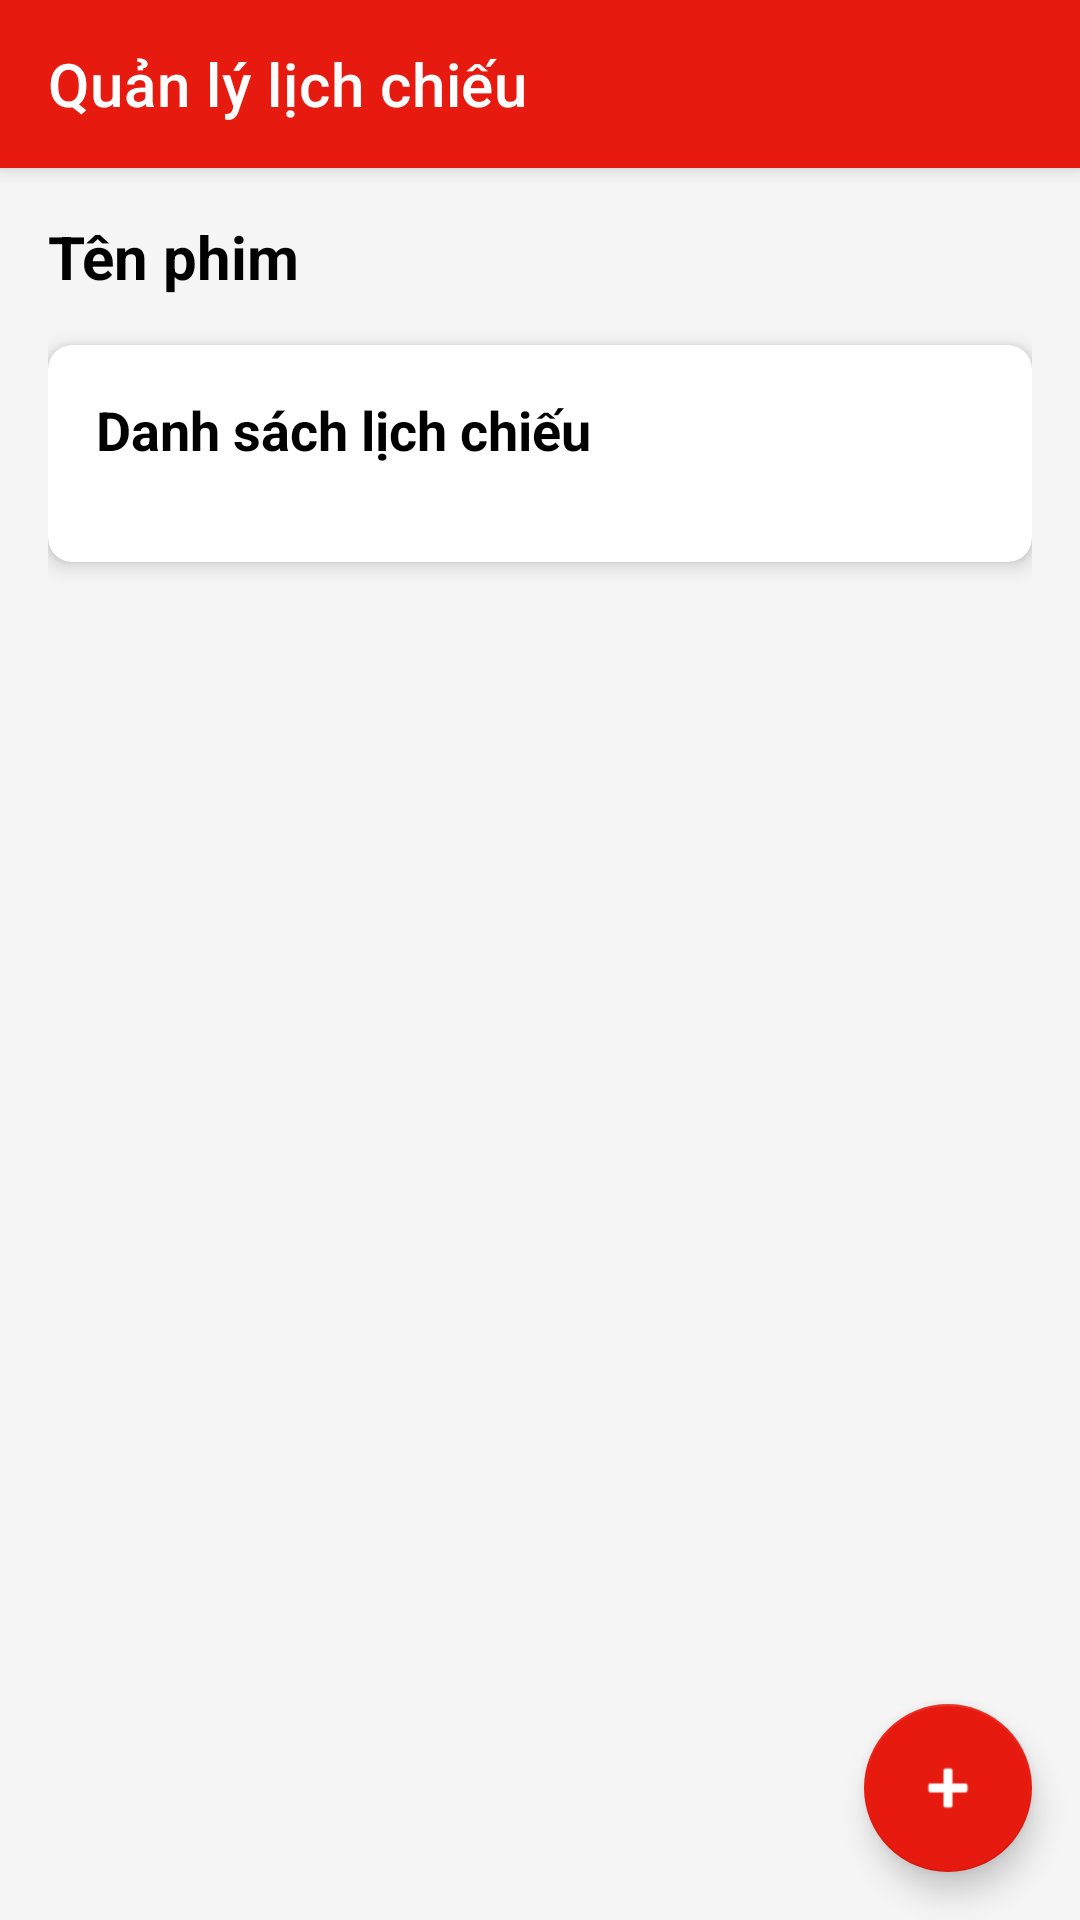

Icon bounding boxes for this 1080×1920 phone screenshot, format (x1, y1, x2, y2):
Thêm lịch chiếu mới: (864, 1704, 1032, 1872)
